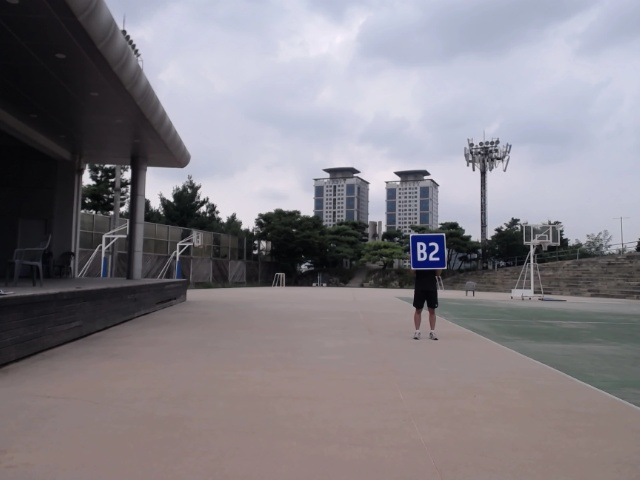delivery_b2: (411, 232, 448, 271)
